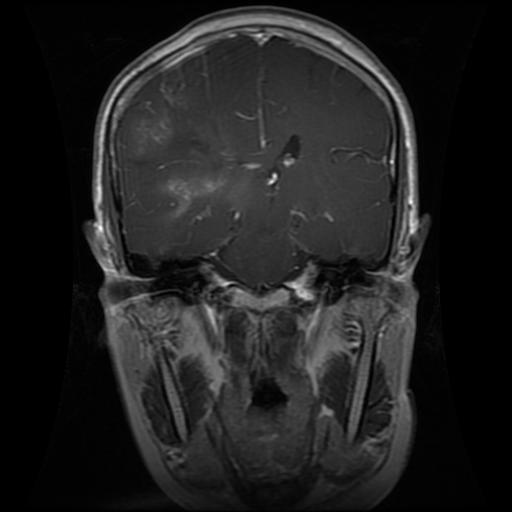Gliomia_tumour: (155, 126, 254, 219)
